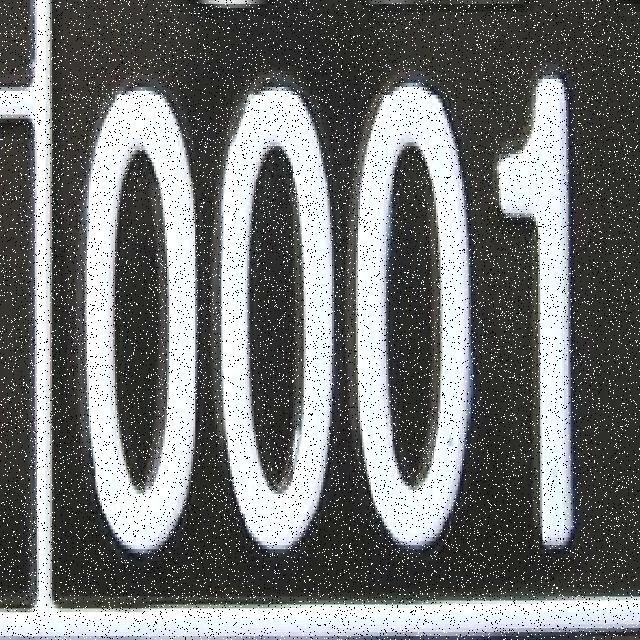LicensePlate: (0, 1, 640, 604)
